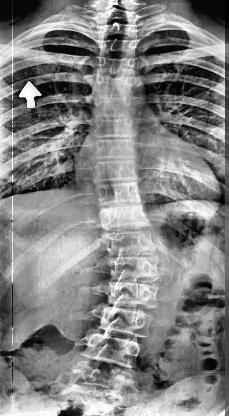Vertebrae: (88, 332, 144, 366), (104, 253, 162, 281), (97, 305, 151, 335), (107, 228, 157, 257), (108, 282, 162, 308), (101, 204, 149, 232), (92, 72, 140, 100), (93, 112, 140, 140), (92, 95, 139, 121), (92, 160, 140, 184), (96, 182, 140, 204), (91, 56, 138, 76), (96, 139, 140, 158), (98, 37, 142, 55), (95, 22, 139, 40)
